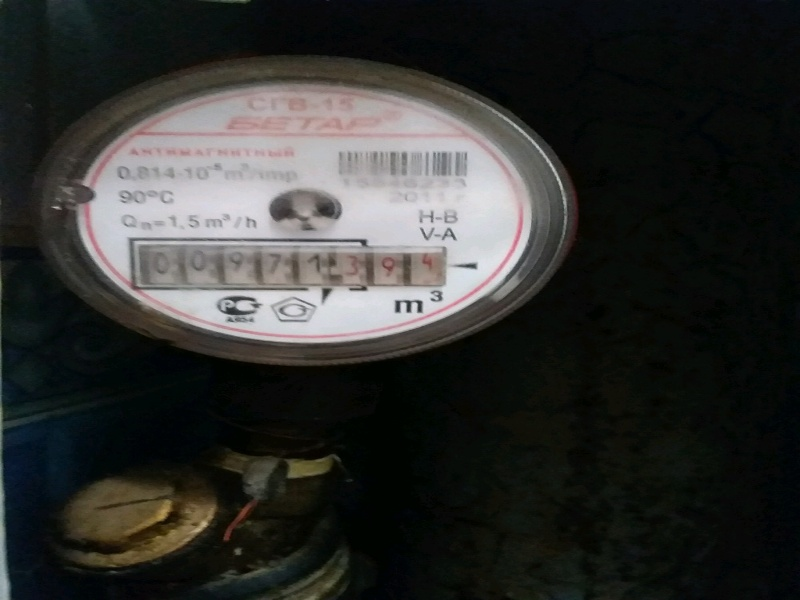dial: (121, 239, 434, 291)
